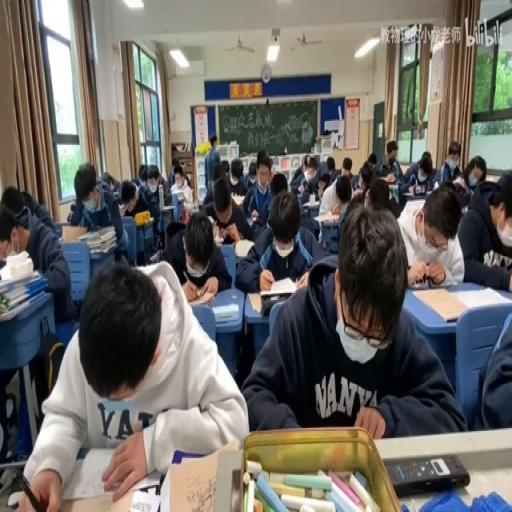calculator: (164, 441, 238, 512), (386, 454, 470, 496), (453, 286, 507, 310), (128, 484, 160, 509), (261, 274, 296, 296), (182, 283, 216, 304), (212, 302, 238, 322), (60, 224, 86, 242), (234, 238, 256, 258), (90, 244, 115, 258), (247, 291, 262, 313), (136, 214, 156, 228), (212, 222, 222, 242), (300, 199, 319, 208), (230, 194, 244, 206), (486, 174, 499, 184), (174, 189, 184, 201), (384, 175, 397, 183), (206, 214, 216, 224), (160, 204, 174, 210)
paper: (17, 258, 246, 509), (242, 202, 460, 437), (0, 182, 76, 321), (161, 206, 230, 299), (68, 162, 128, 260), (474, 303, 512, 431), (119, 176, 157, 252), (240, 155, 272, 232), (362, 175, 402, 222), (318, 170, 354, 220), (450, 155, 484, 206), (400, 148, 435, 196), (294, 154, 324, 199), (204, 134, 222, 190), (225, 158, 248, 199), (379, 138, 402, 179), (168, 155, 190, 195), (493, 170, 512, 203), (100, 168, 122, 196), (350, 155, 366, 189), (438, 160, 458, 184), (338, 155, 354, 182), (270, 171, 286, 196), (138, 162, 148, 188), (448, 141, 461, 159), (366, 152, 376, 171), (148, 172, 158, 189), (299, 176, 309, 192), (220, 160, 229, 176), (326, 156, 334, 174), (352, 188, 364, 200), (302, 160, 312, 174), (248, 164, 257, 179), (210, 135, 216, 148), (270, 164, 275, 174)
person: (259, 292, 291, 314), (410, 279, 429, 290)
